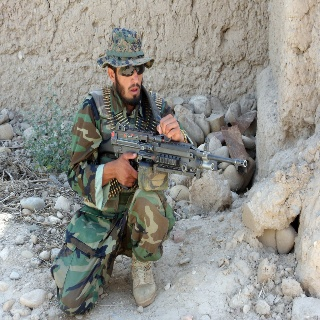rifle: (96, 122, 249, 183)
